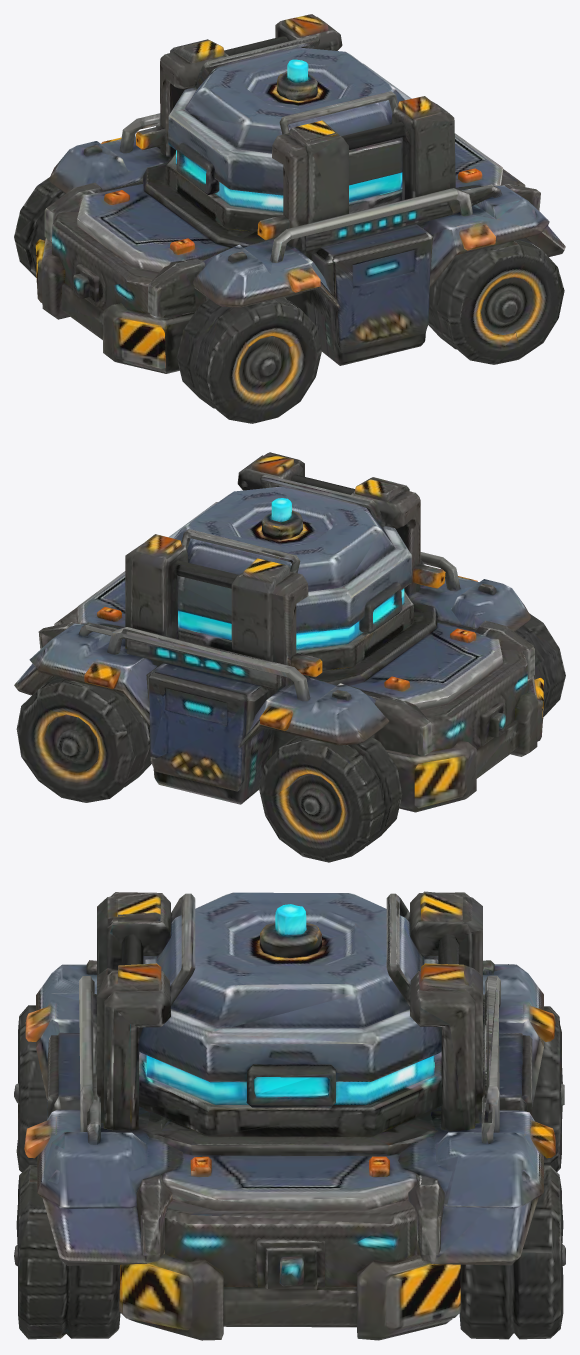
Rendered from generator_on_wheels.glb.
3 renders of one model, top to bottom at view 1: azimuth 30°, elevation 25°; view 2: azimuth 150°, elevation 25°; view 3: azimuth 270°, elevation 25°, orthographic. The views are drawn at different scales.
Visible parts, largest first — view 1: mesh_node; view 2: mesh_node; view 3: mesh_node.
Part boxes in pixels (x1=…): mesh_node: x1=14, y1=14, x2=565, y2=423; mesh_node: x1=14, y1=452, x2=565, y2=862; mesh_node: x1=14, y1=891, x2=565, y2=1340.
Size of the model in its own units: 1 by 0.5761 by 0.8301.
Materials: 1 (1 with a texture image).
